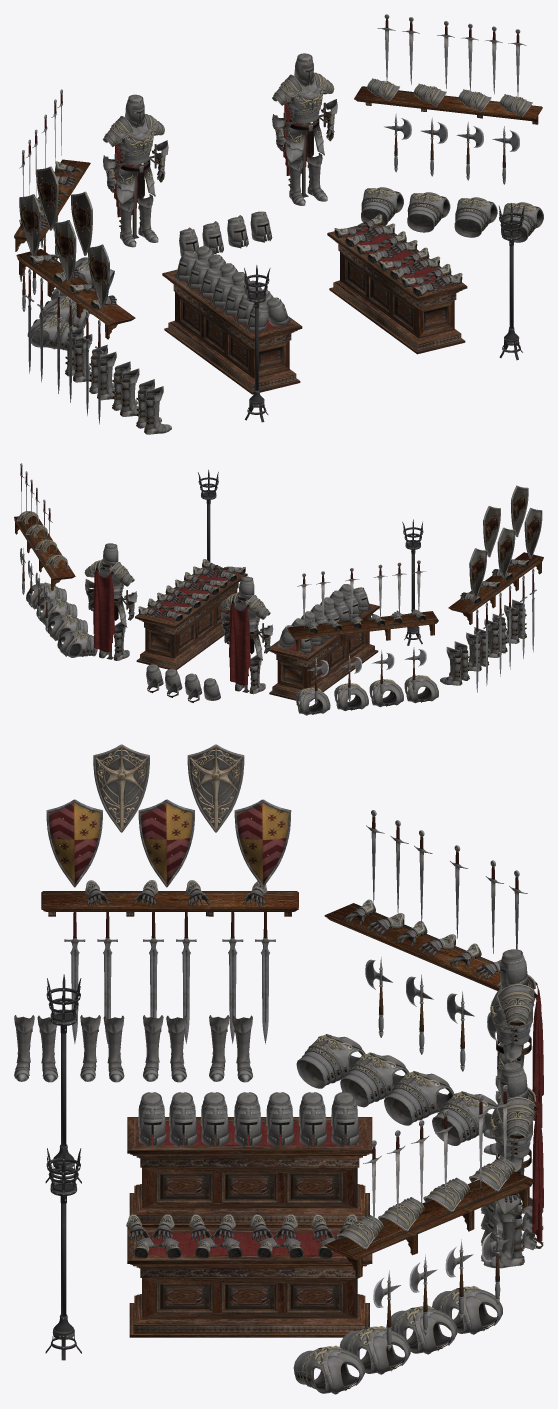
File: toeic_diorama.glb
3 views of the same model, one above another, from view 1: azimuth 30°, elevation 25°; view 2: azimuth 150°, elevation 25°; view 3: azimuth 270°, elevation 25° (orthographic). The views are drawn at different scales.
Visible parts, largest first — view 1: KB3D_ECI_IntPaladinsArmory_A_SwordBaseA, KB3D_ECI_IntPaladinsArmory_A_SwordBaseD, KB3D_ECI_IntPaladinsArmory_A_ArmorA, KB3D_ECI_IntPaladinsArmory_A_ArmorB, KB3D_ECI_IntPaladinsArmory_A_ShelfB, KB3D_ECI_IntPaladinsArmory_A_ShelfC, KB3D_ECI_IntPaladinsArmory_A_ArmorChestF, KB3D_ECI_IntPaladinsArmory_A_ArmorChestH, KB3D_ECI_IntPaladinsArmory_A_StandingLanternD, KB3D_ECI_IntPaladinsArmory_A_StandingLanternC, KB3D_ECI_IntPaladinsArmory_A_ArmorChestE, KB3D_ECI_IntPaladinsArmory_A_ArmorChestA (+18 smaller); view 2: KB3D_ECI_IntPaladinsArmory_A_SwordBaseA, KB3D_ECI_IntPaladinsArmory_A_SwordBaseD, KB3D_ECI_IntPaladinsArmory_A_ArmorB, KB3D_ECI_IntPaladinsArmory_A_ArmorA, KB3D_ECI_IntPaladinsArmory_A_ShelfD, KB3D_ECI_IntPaladinsArmory_A_ShelfB, KB3D_ECI_IntPaladinsArmory_A_ShelfC, KB3D_ECI_IntPaladinsArmory_A_ArmorChestE, KB3D_ECI_IntPaladinsArmory_A_StandingLanternC, KB3D_ECI_IntPaladinsArmory_A_ArmorChestD, KB3D_ECI_IntPaladinsArmory_A_ArmorChestC, KB3D_ECI_IntPaladinsArmory_A_ArmorChestA (+17 smaller); view 3: KB3D_ECI_IntPaladinsArmory_A_SwordBaseA, KB3D_ECI_IntPaladinsArmory_A_SwordBaseD, KB3D_ECI_IntPaladinsArmory_A_ArmorB, KB3D_ECI_IntPaladinsArmory_A_ArmorA, KB3D_ECI_IntPaladinsArmory_A_ShelfB, KB3D_ECI_IntPaladinsArmory_A_ShelfC, KB3D_ECI_IntPaladinsArmory_A_ShieldJ, KB3D_ECI_IntPaladinsArmory_A_ShieldK, KB3D_ECI_IntPaladinsArmory_A_ShieldS, KB3D_ECI_IntPaladinsArmory_A_ShieldQ, KB3D_ECI_IntPaladinsArmory_A_ShieldR, KB3D_ECI_IntPaladinsArmory_A_ShelfD (+32 smaller).
Boxes of the visible parts, x1,y1,x2,y2 form: KB3D_ECI_IntPaladinsArmory_A_SwordBaseA: (327, 224, 467, 354); KB3D_ECI_IntPaladinsArmory_A_SwordBaseD: (162, 269, 302, 394); KB3D_ECI_IntPaladinsArmory_A_ArmorA: (103, 94, 168, 247); KB3D_ECI_IntPaladinsArmory_A_ArmorB: (272, 53, 337, 205); KB3D_ECI_IntPaladinsArmory_A_ShelfB: (16, 249, 135, 339); KB3D_ECI_IntPaladinsArmory_A_ShelfC: (354, 86, 542, 124); KB3D_ECI_IntPaladinsArmory_A_ArmorChestF: (407, 192, 450, 232); KB3D_ECI_IntPaladinsArmory_A_ArmorChestH: (454, 197, 497, 237); KB3D_ECI_IntPaladinsArmory_A_StandingLanternD: (498, 203, 524, 360); KB3D_ECI_IntPaladinsArmory_A_StandingLanternC: (244, 265, 270, 422); KB3D_ECI_IntPaladinsArmory_A_ArmorChestE: (361, 187, 403, 225); KB3D_ECI_IntPaladinsArmory_A_ArmorChestA: (27, 314, 78, 350); KB3D_ECI_IntPaladinsArmory_A_SwordBaseA: (135, 567, 247, 669); KB3D_ECI_IntPaladinsArmory_A_SwordBaseD: (269, 603, 379, 701); KB3D_ECI_IntPaladinsArmory_A_ArmorB: (84, 543, 137, 660); KB3D_ECI_IntPaladinsArmory_A_ArmorA: (220, 576, 273, 694); KB3D_ECI_IntPaladinsArmory_A_ShelfD: (287, 611, 438, 650); KB3D_ECI_IntPaladinsArmory_A_ShelfB: (448, 552, 543, 624); KB3D_ECI_IntPaladinsArmory_A_ShelfC: (14, 516, 75, 590); KB3D_ECI_IntPaladinsArmory_A_ArmorChestE: (57, 629, 97, 657); KB3D_ECI_IntPaladinsArmory_A_StandingLanternC: (402, 519, 423, 645); KB3D_ECI_IntPaladinsArmory_A_ArmorChestD: (296, 687, 330, 715); KB3D_ECI_IntPaladinsArmory_A_ArmorChestC: (334, 683, 368, 710); KB3D_ECI_IntPaladinsArmory_A_ArmorChestA: (404, 675, 438, 703); KB3D_ECI_IntPaladinsArmory_A_SwordBaseA: (127, 1227, 372, 1337); KB3D_ECI_IntPaladinsArmory_A_SwordBaseD: (127, 1117, 372, 1227); KB3D_ECI_IntPaladinsArmory_A_ArmorB: (483, 1062, 543, 1268); KB3D_ECI_IntPaladinsArmory_A_ArmorA: (483, 949, 543, 1155); KB3D_ECI_IntPaladinsArmory_A_ShelfB: (41, 891, 298, 916); KB3D_ECI_IntPaladinsArmory_A_ShelfC: (324, 1171, 534, 1278); KB3D_ECI_IntPaladinsArmory_A_ShieldJ: (187, 744, 244, 832); KB3D_ECI_IntPaladinsArmory_A_ShieldK: (93, 744, 149, 832); KB3D_ECI_IntPaladinsArmory_A_ShieldS: (46, 799, 102, 887); KB3D_ECI_IntPaladinsArmory_A_ShieldQ: (234, 799, 291, 886); KB3D_ECI_IntPaladinsArmory_A_ShieldR: (138, 799, 194, 887); KB3D_ECI_IntPaladinsArmory_A_ShelfD: (324, 903, 500, 990).
Bounding box in the file's own units: 7.58 × 3.25 × 4.63.
Materials: 7 (7 with a texture image).
